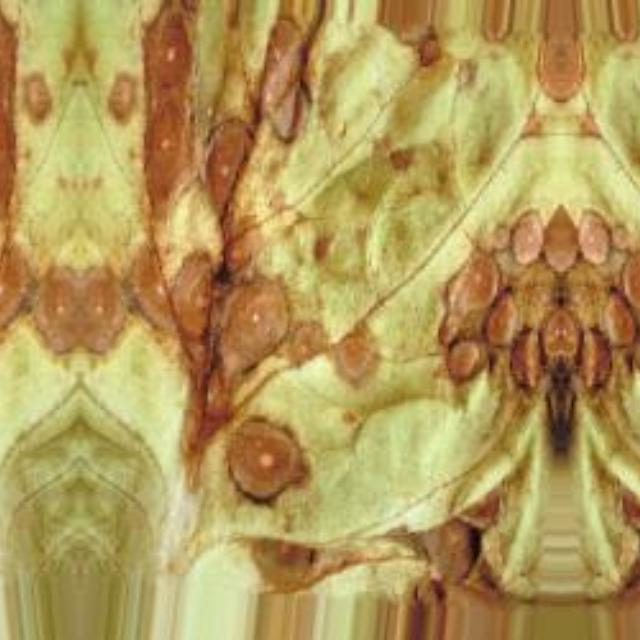Septoria_Blight: (80, 0, 332, 212), (79, 246, 379, 392), (424, 200, 556, 378), (0, 0, 78, 212), (565, 199, 640, 378), (0, 246, 79, 392), (217, 419, 307, 496)
